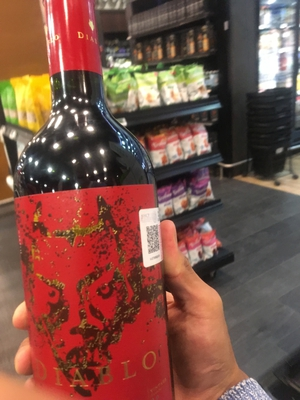diablo dark red: (14, 10, 176, 400)
